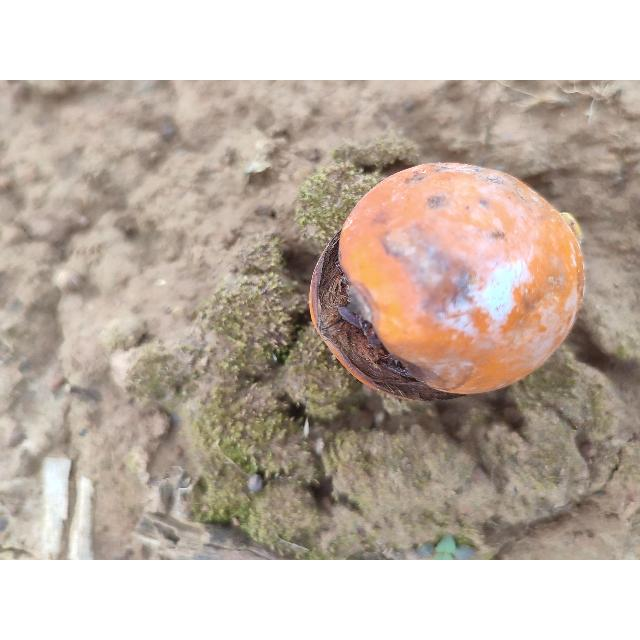damaged: (310, 163, 587, 402)
